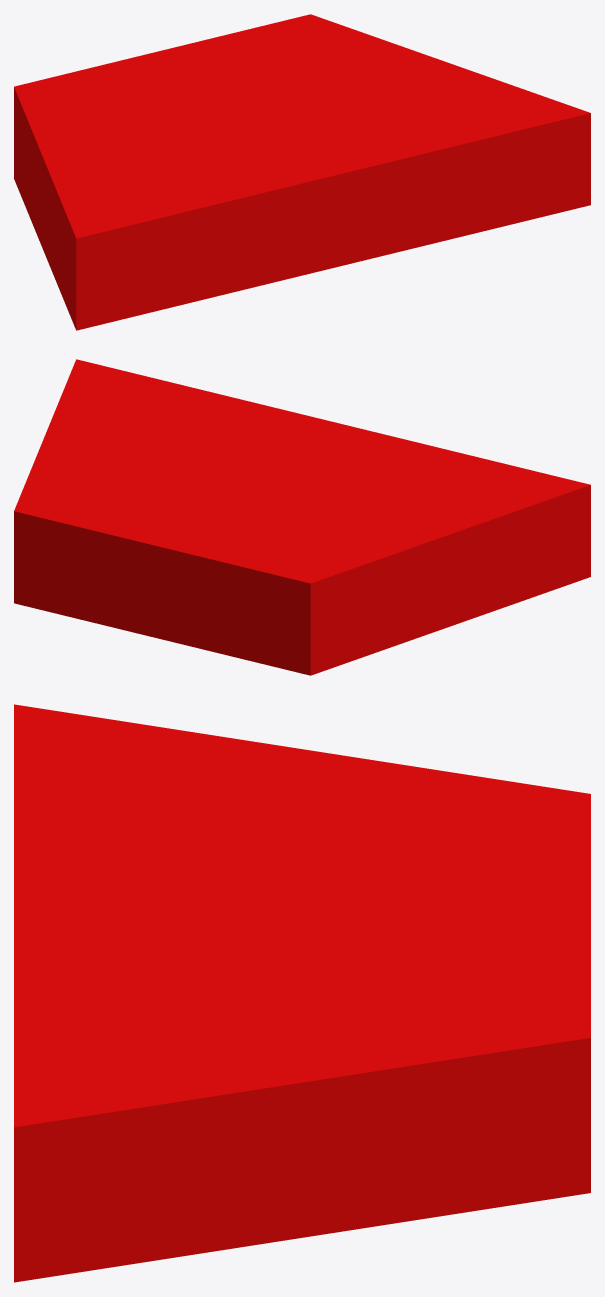
Rendered from Prop_ShapeSortingBlock_Polygon_02.fbx.
3 renders of one model, top to bottom at view 1: azimuth 30°, elevation 25°; view 2: azimuth 150°, elevation 25°; view 3: azimuth 270°, elevation 25°, orthographic. The views are drawn at different scales.
Parts seen in each view (by area): view 1: Prop_ShapeSortingBlock_Polygon_02; view 2: Prop_ShapeSortingBlock_Polygon_02; view 3: Prop_ShapeSortingBlock_Polygon_02.
Boxes of the visible parts, left/top/right/bottom form: Prop_ShapeSortingBlock_Polygon_02: left=14, top=14, right=590, bottom=330; Prop_ShapeSortingBlock_Polygon_02: left=14, top=359, right=590, bottom=675; Prop_ShapeSortingBlock_Polygon_02: left=14, top=704, right=590, bottom=1282.
Bounding box in the file's own units: 18.25 × 3.12 × 10.52.
